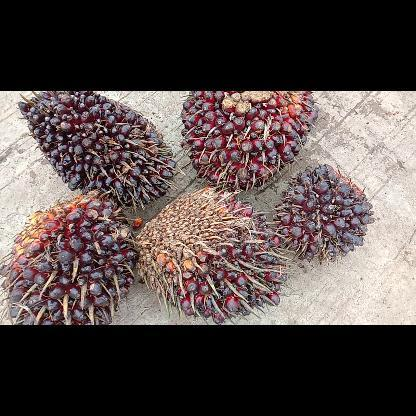TBS mentah: (136, 186, 297, 324), (16, 90, 182, 209), (0, 190, 139, 325), (181, 91, 319, 190), (272, 164, 374, 263)
